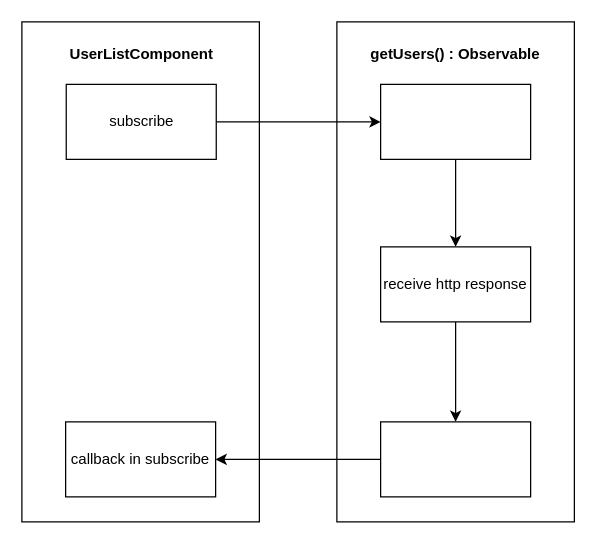
Some shapes in this 596 by 544 pixel diagram are drawn without their labels. The centre of each missing label's shape, as x and y in pixels:
make http request: (455,121)
next: (455,459)
